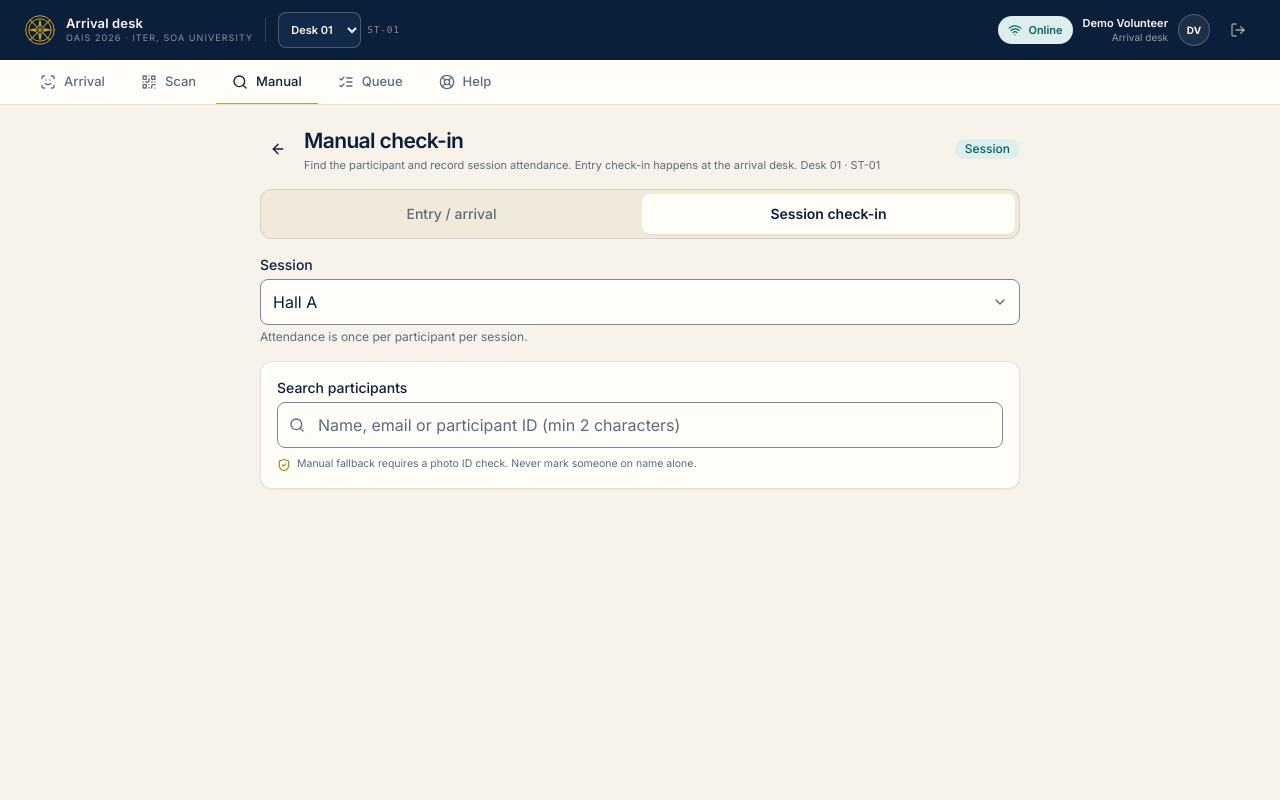
Manual lookup (§7.5/§7.6) › reports a duplicate session scan without writing again
In the field labelled "Search participants": (640, 425) top-left (277, 402), bottom-right (1003, 448), type "As"
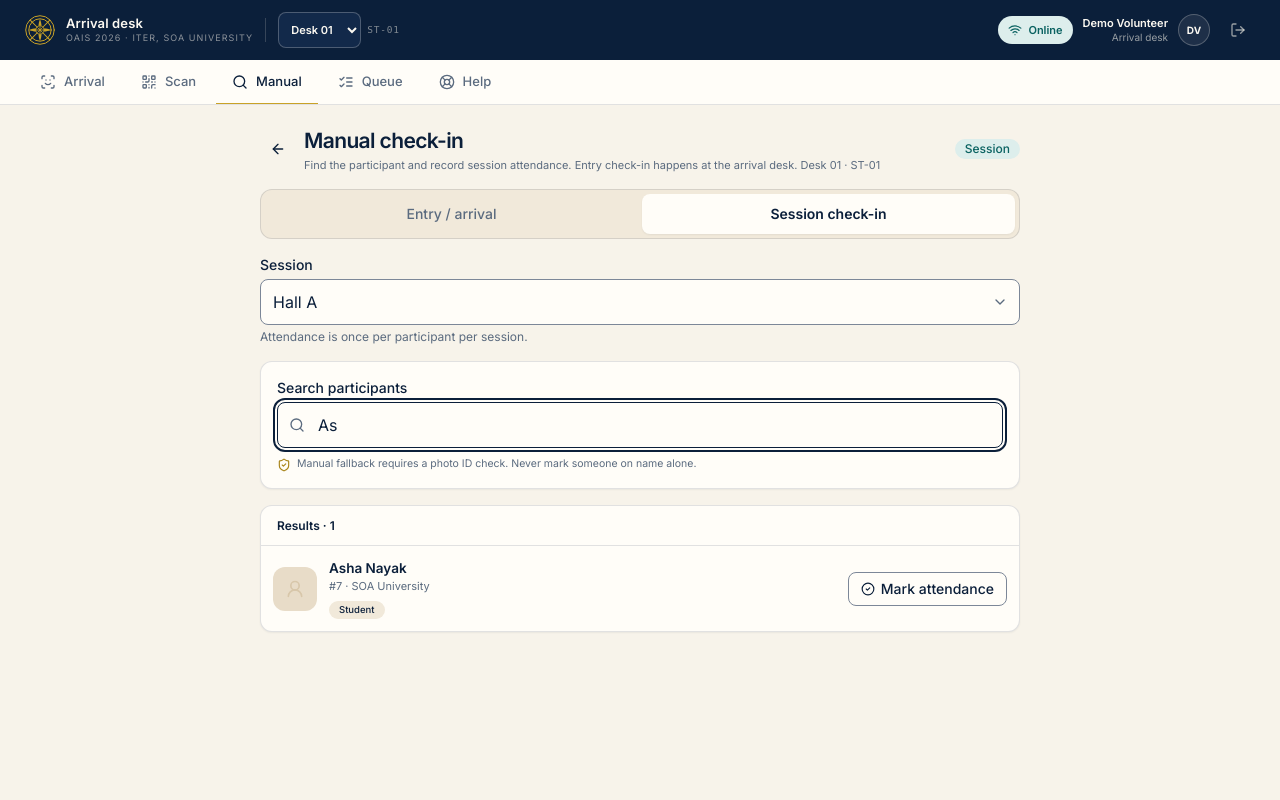
Expected: the text "Asha Nayak" is shown, top-left (329, 560), bottom-right (407, 576)
Click the button "Mark attendance": (927, 588) top-left (848, 572), bottom-right (1007, 606)
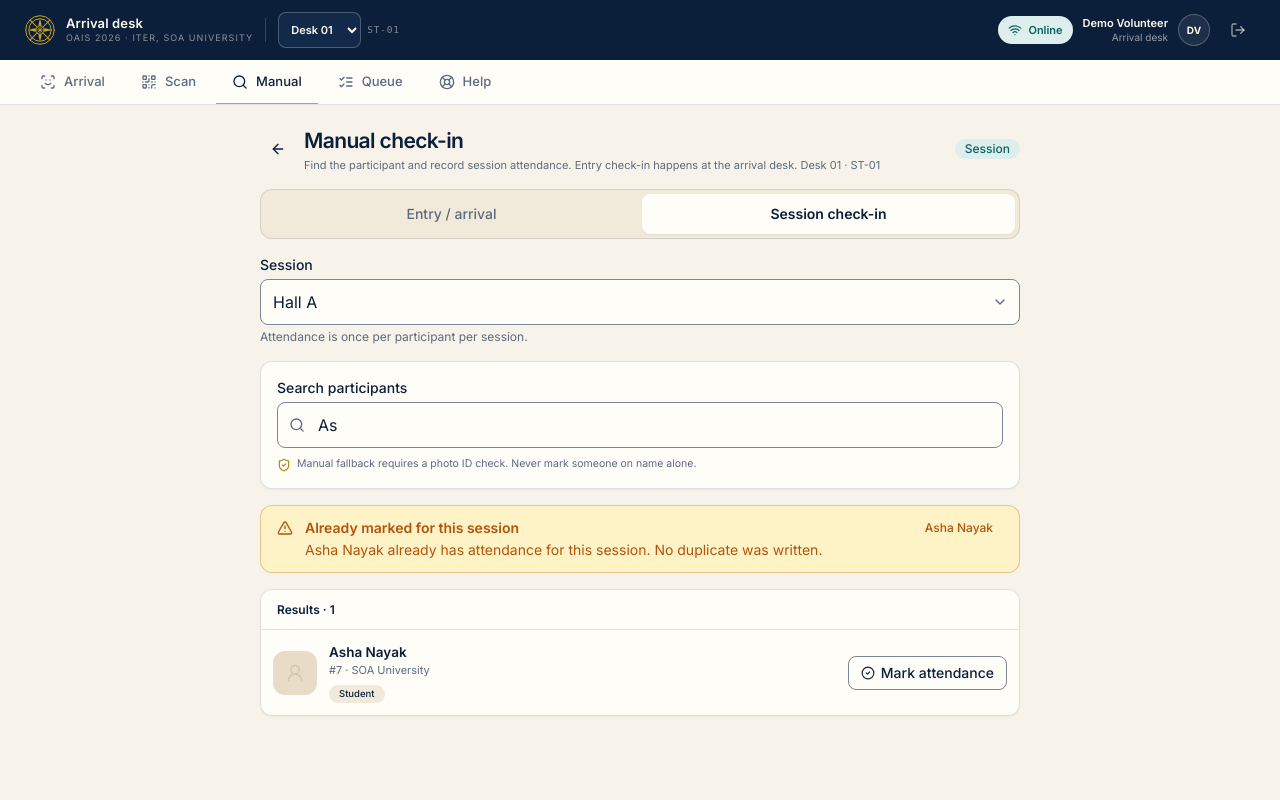
Expected: the text "Already marked for this session" is shown, top-left (305, 519), bottom-right (519, 536)
